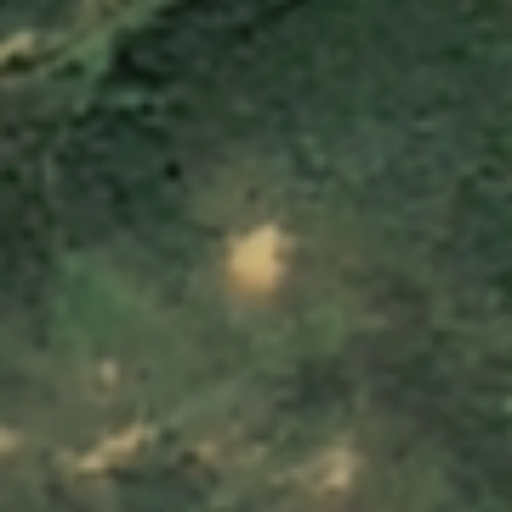landslide: (222, 220, 293, 293)
